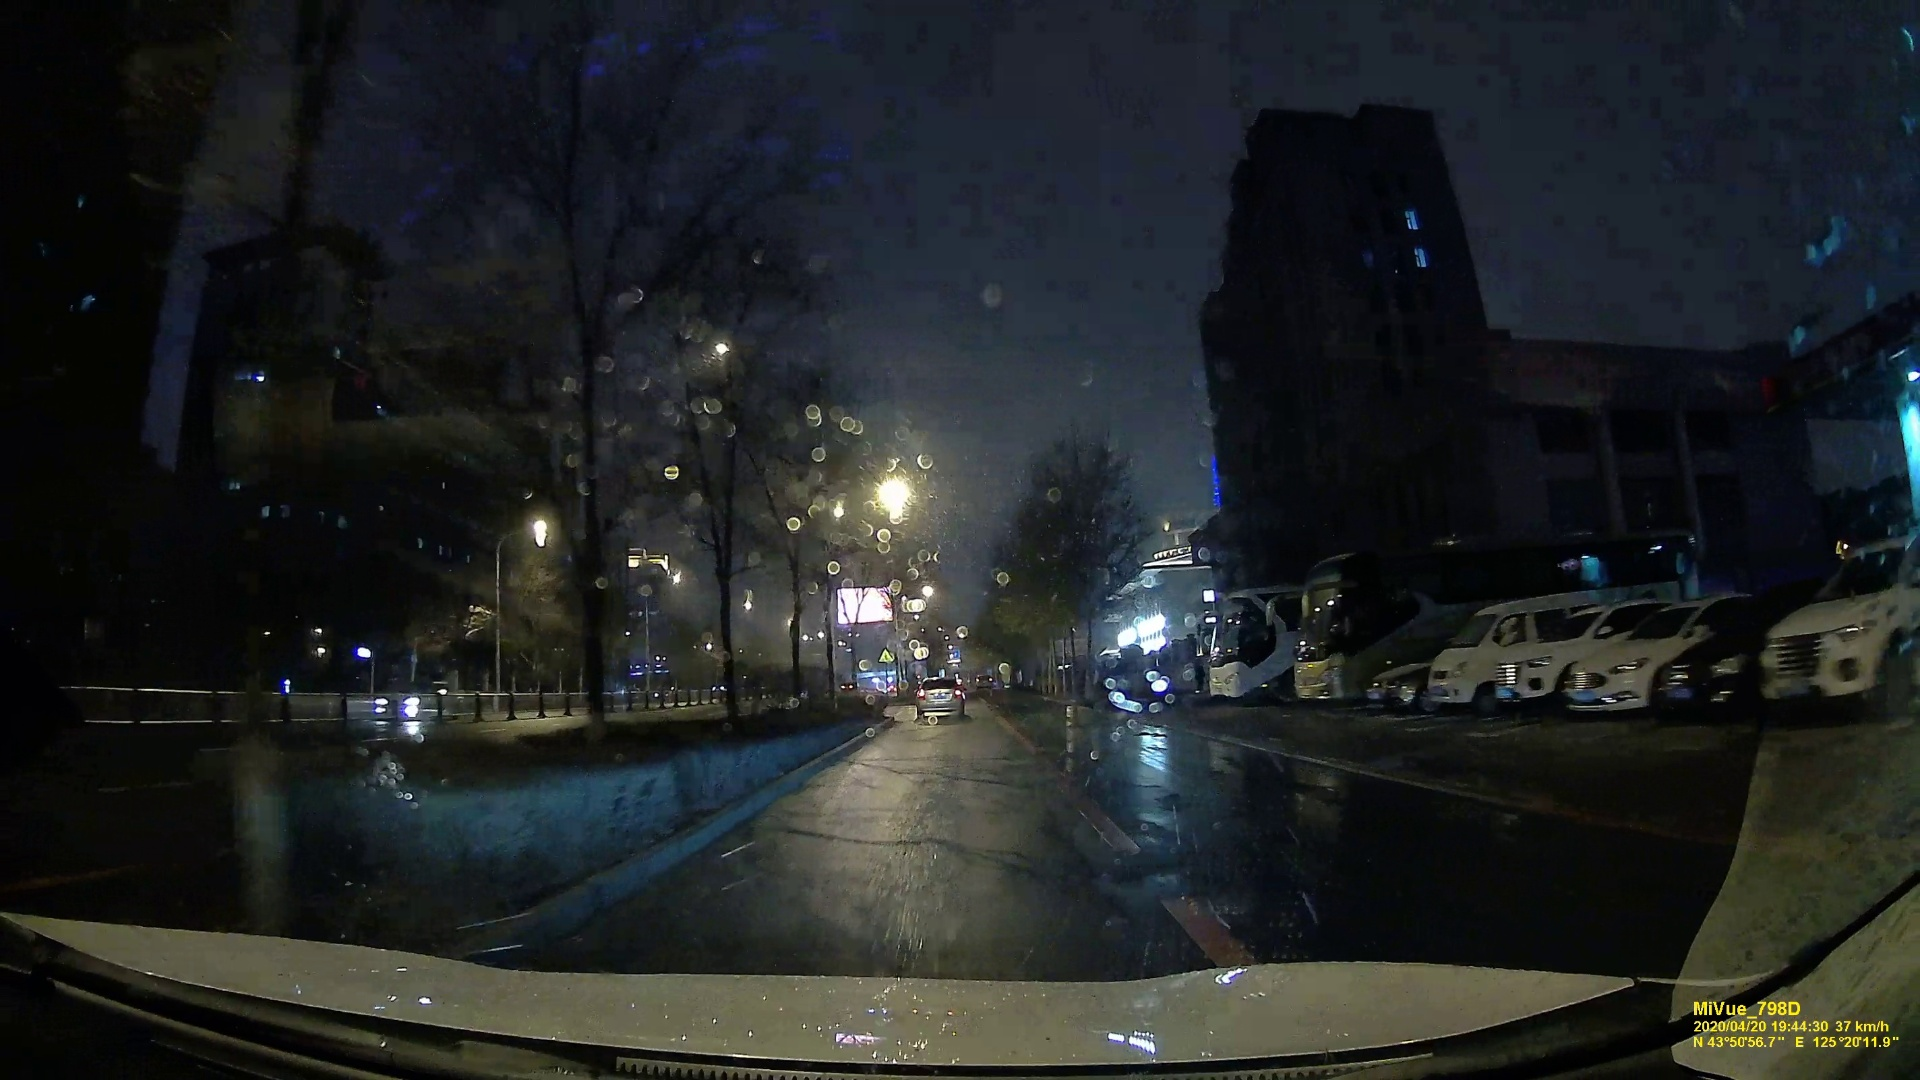bus: (1291, 555, 1418, 704), (1207, 588, 1288, 702)
minibus: (1425, 597, 1545, 708)
vehicle: (375, 680, 462, 717), (915, 676, 965, 717)
